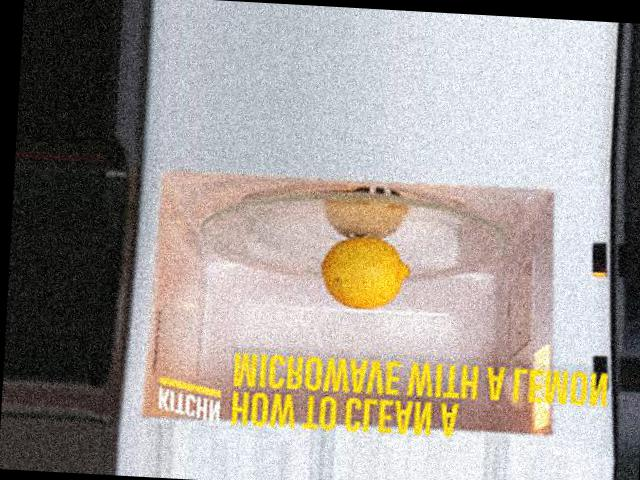lemon: (312, 225, 423, 320)
